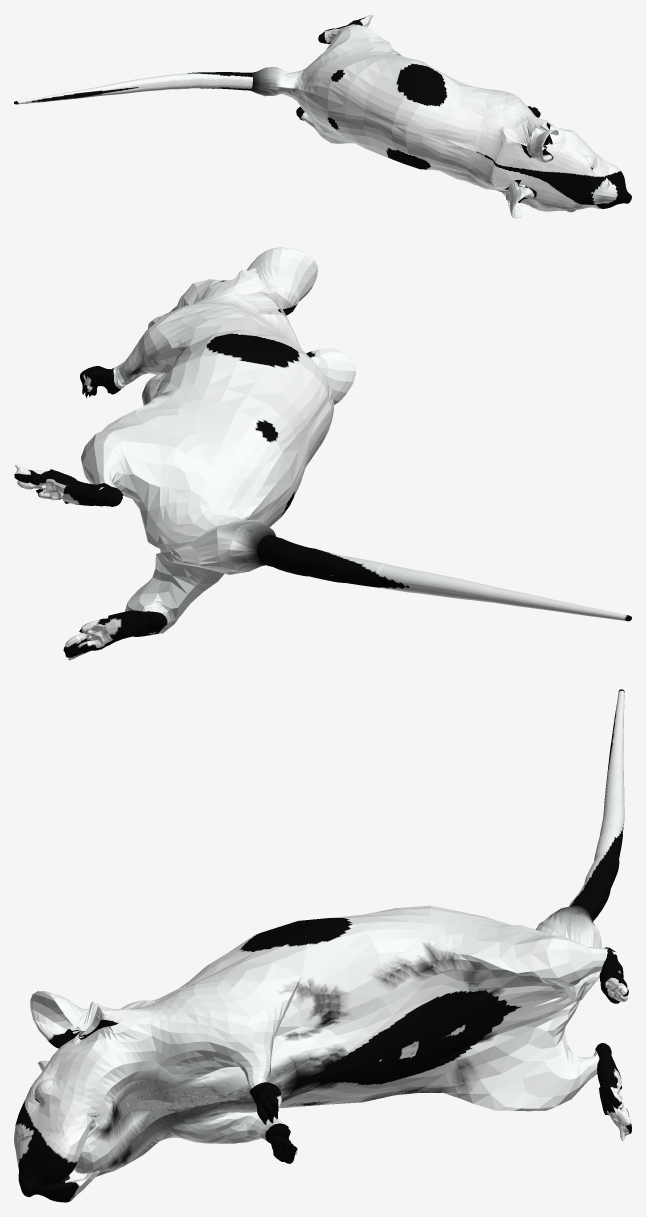
The model's file is mouse_frame4.obj.
The picture shows the model from 3 angles, top to bottom: view 1: azimuth 30°, elevation 25°; view 2: azimuth 150°, elevation 25°; view 3: azimuth 270°, elevation 25°; orthographic projection. The views are drawn at different scales.
Bounding box in the file's own units: 117 × 30.94 × 82.32.
Materials: 1 (1 with a texture image).
